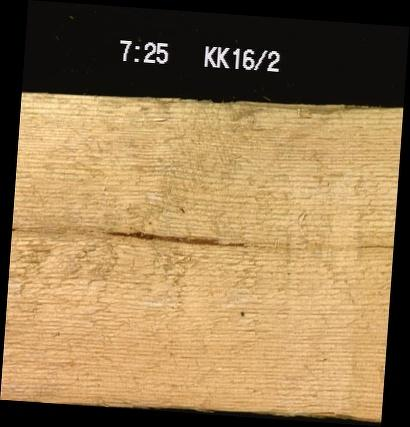split: (346, 227, 393, 253)
